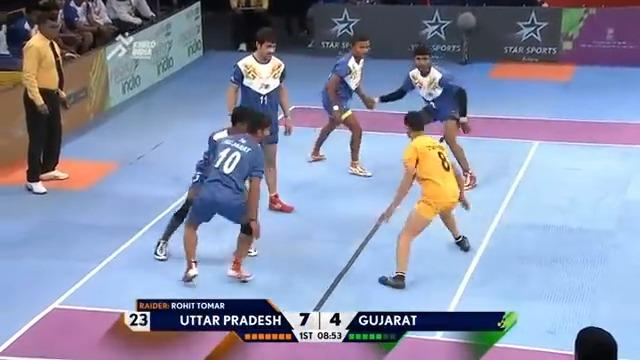Player: (372, 41, 478, 190), (224, 25, 296, 214), (306, 31, 377, 178), (182, 118, 247, 267)
Raider: (375, 108, 472, 290)
referee: (20, 4, 72, 194)
